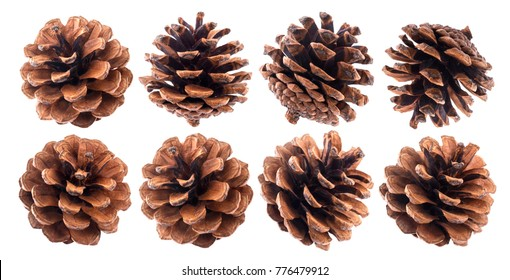Pc: (141, 129, 256, 250), (262, 8, 372, 128), (19, 15, 133, 129), (380, 135, 495, 247), (260, 133, 370, 248), (17, 134, 132, 243), (383, 16, 493, 129), (145, 9, 250, 126)
